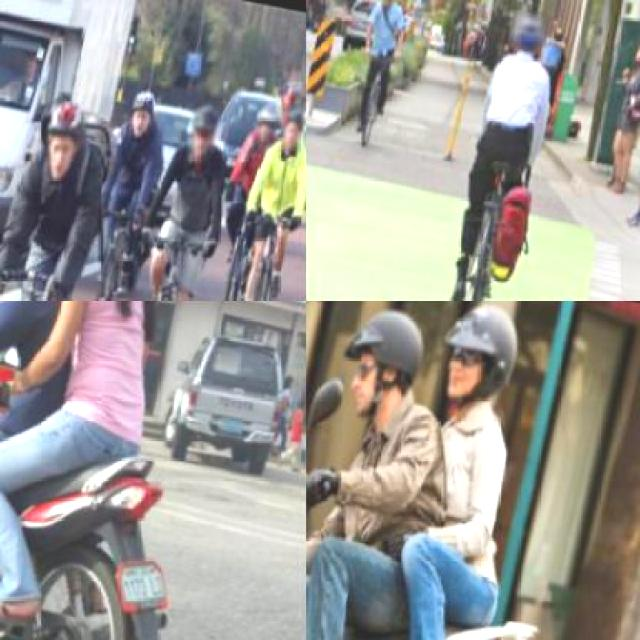With Helmet: (320, 300, 440, 437), (428, 300, 530, 431), (31, 99, 94, 186), (181, 100, 227, 169), (116, 86, 162, 149), (503, 12, 549, 62), (249, 100, 285, 154), (272, 106, 305, 162), (370, 0, 403, 15)
